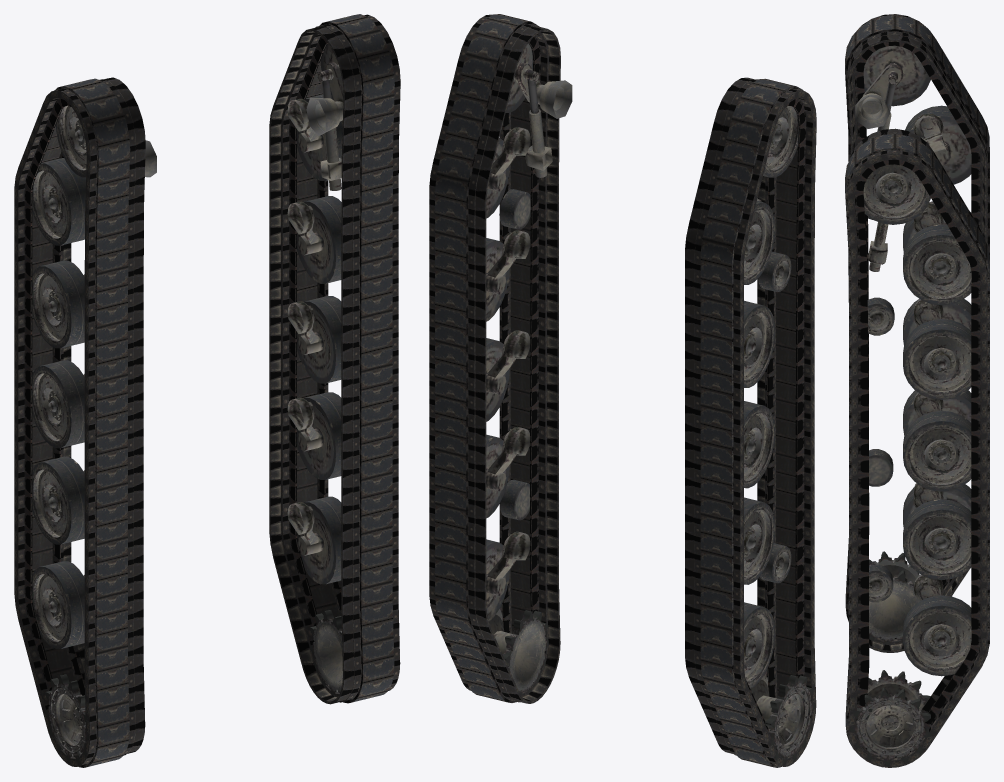
File: Chassis.glb
3 views of the same model, side by side, from view 1: azimuth 30°, elevation 25°; view 2: azimuth 150°, elevation 25°; view 3: azimuth 270°, elevation 25° (orthographic). The views are drawn at different scales.
Visible parts, largest first — view 1: set_1_group_0, set_0_group_0, set_2_group_0, set_3_group_0; view 2: set_0_group_0, set_1_group_0, set_3_group_0, set_2_group_0; view 3: set_3_group_0, set_1_group_0, set_2_group_0, set_0_group_0.
Boxes of the visible parts, x1,y1,x2,y2 form: set_1_group_0: (269, 14, 400, 704); set_0_group_0: (14, 77, 145, 767); set_2_group_0: (32, 105, 156, 763); set_3_group_0: (287, 43, 343, 696); set_0_group_0: (685, 77, 816, 767); set_1_group_0: (429, 14, 560, 703); set_3_group_0: (486, 43, 572, 695); set_2_group_0: (744, 106, 815, 764); set_3_group_0: (848, 164, 971, 765); set_1_group_0: (845, 128, 989, 767); set_2_group_0: (848, 45, 971, 644); set_0_group_0: (845, 14, 989, 652).
Bounding box in the file's own units: 2.8 × 5.8 × 1.23.
Materials: 4 (4 with a texture image).
